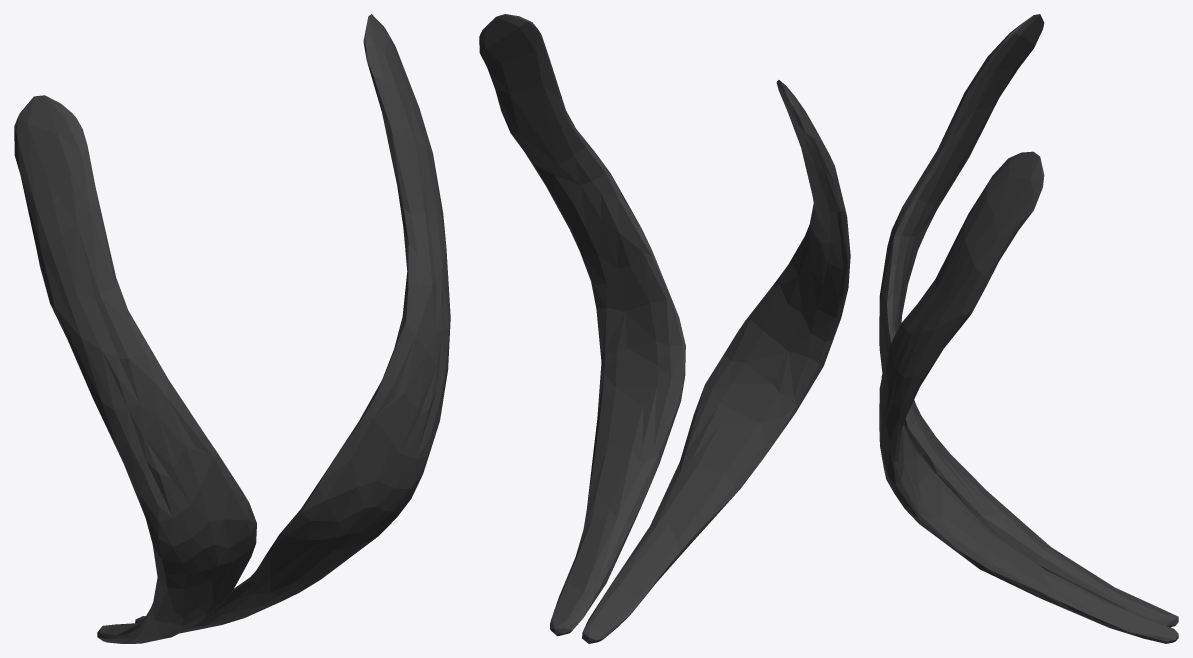
File: m_subclavius.glb
The picture shows the model from 3 angles, left to right: view 1: azimuth 30°, elevation 25°; view 2: azimuth 150°, elevation 25°; view 3: azimuth 270°, elevation 25°; orthographic projection. The views are drawn at different scales.
Parts seen in each view (by area): view 1: m_subclavius; view 2: m_subclavius; view 3: m_subclavius.
Part boxes in pixels (x1,y1,x2,y2): m_subclavius: (14,14,450,643); m_subclavius: (479,14,850,643); m_subclavius: (879,14,1178,643).
Size of the model in its own units: 0.00442 by 0.00685 by 0.00337.
1 material, 1 textured.
